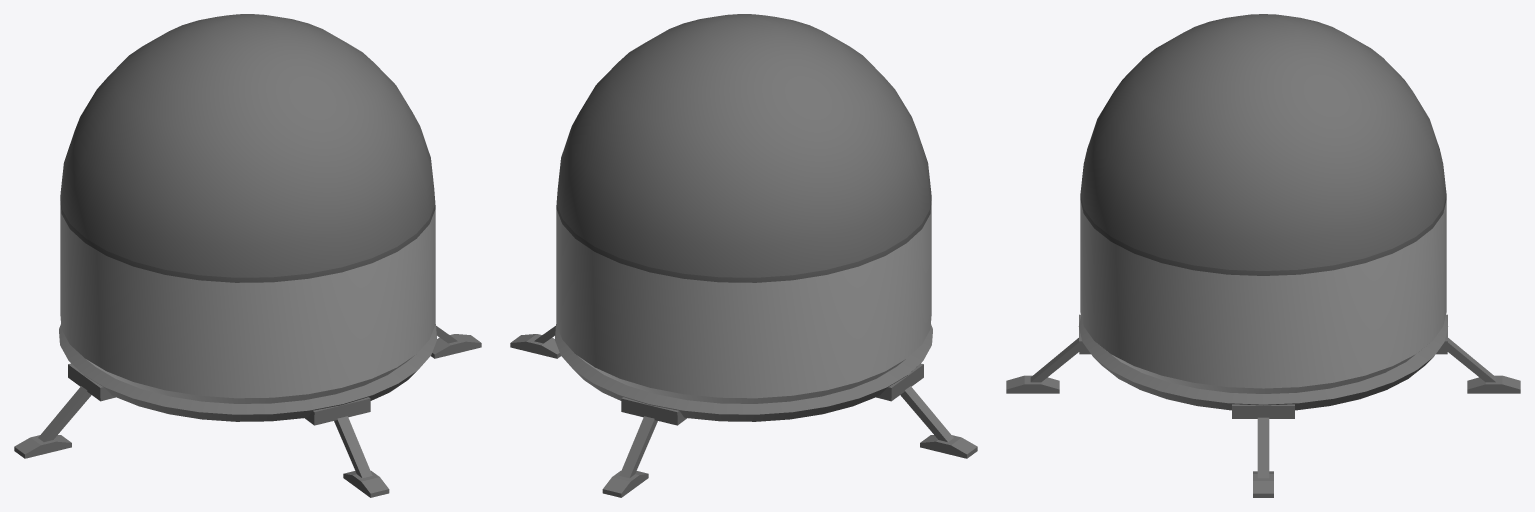
Rendered from House Cylinder.glb.
The picture shows the model from 3 angles, left to right: view 1: azimuth 30°, elevation 25°; view 2: azimuth 150°, elevation 25°; view 3: azimuth 270°, elevation 25°; orthographic projection. The views are drawn at different scales.
Parts seen in each view (by area): view 1: House_Cylinder; view 2: House_Cylinder; view 3: House_Cylinder.
Boxes of the visible parts, x1,y1,x2,y2 form: House_Cylinder: (14,14,481,497); House_Cylinder: (510,14,977,497); House_Cylinder: (1006,14,1520,497).
Bounding box in the file's own units: 5.61 × 4.32 × 5.61.
Materials: 1 (1 with a texture image).
